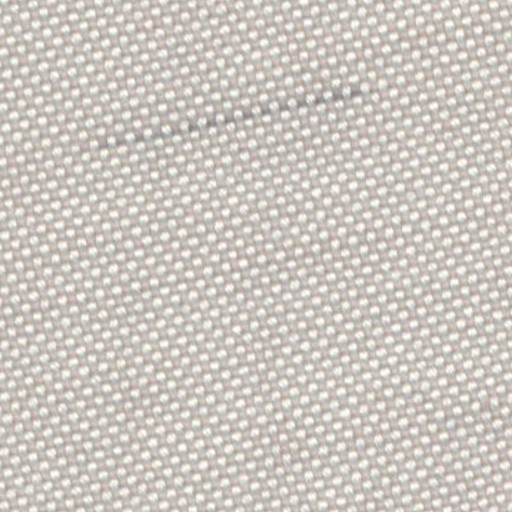WuZi: (98, 86, 362, 146)
